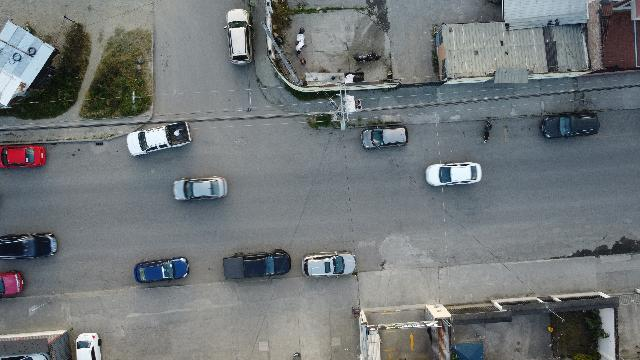Vehiculo: (126, 122, 192, 156), (222, 249, 292, 279), (0, 232, 58, 260), (224, 9, 252, 65), (540, 112, 600, 138), (302, 250, 356, 278), (134, 257, 188, 283), (172, 176, 228, 200), (426, 162, 482, 186), (360, 125, 408, 149), (0, 144, 46, 168), (76, 332, 102, 360), (1, 270, 23, 298)
